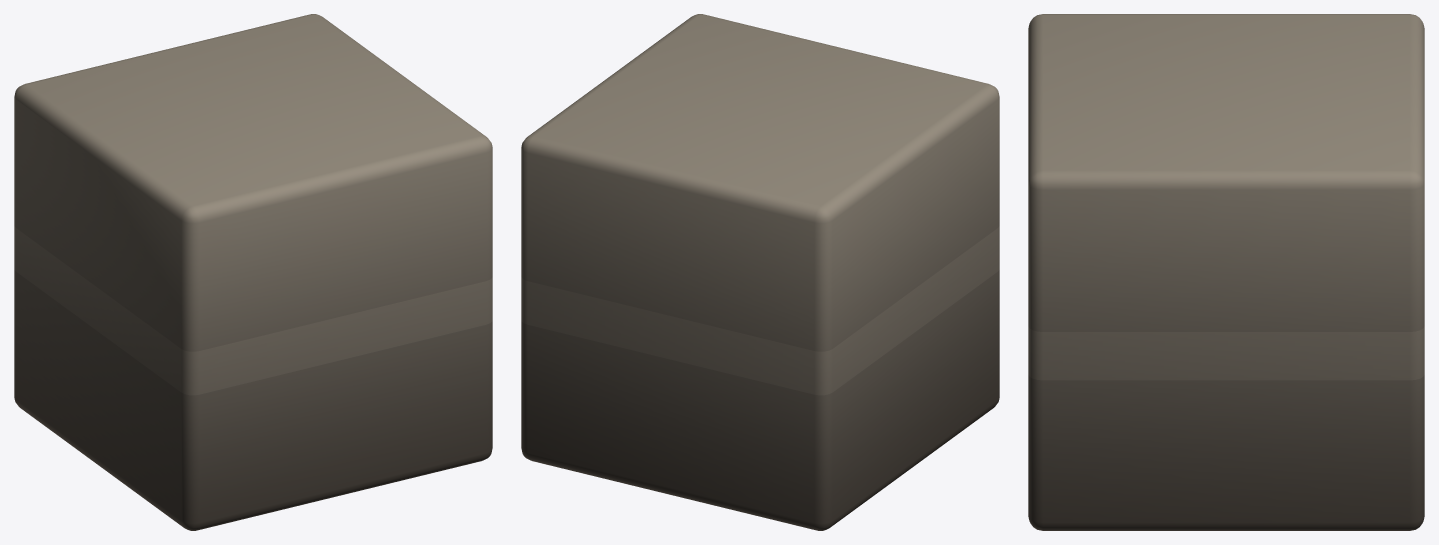
3 views of the same model, side by side, from view 1: azimuth 30°, elevation 25°; view 2: azimuth 150°, elevation 25°; view 3: azimuth 270°, elevation 25° (orthographic). The views are drawn at different scales.
Visible parts, largest first — view 1: Cube_06; view 2: Cube_06; view 3: Cube_06.
Boxes of the visible parts, <box> form: Cube_06: <box>14,14,492,530</box>; Cube_06: <box>521,14,999,530</box>; Cube_06: <box>1028,14,1424,530</box>.
Size of the model in its own units: 2 by 2 by 2.
